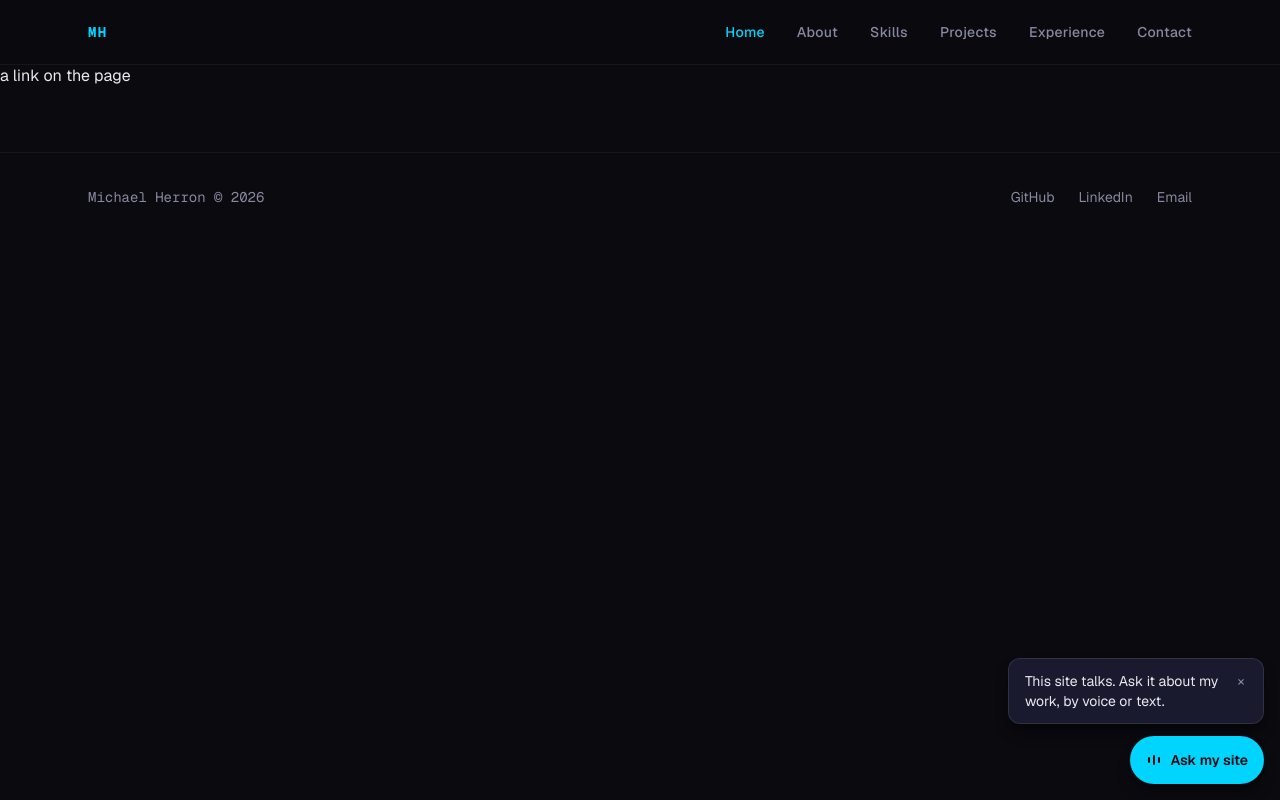
ConciergePanel › offline: shows the status line and the deep-dive link
Step 1. Click the button "Ask my site" → (1197, 760), box left=1130, top=736, right=1264, bottom=784
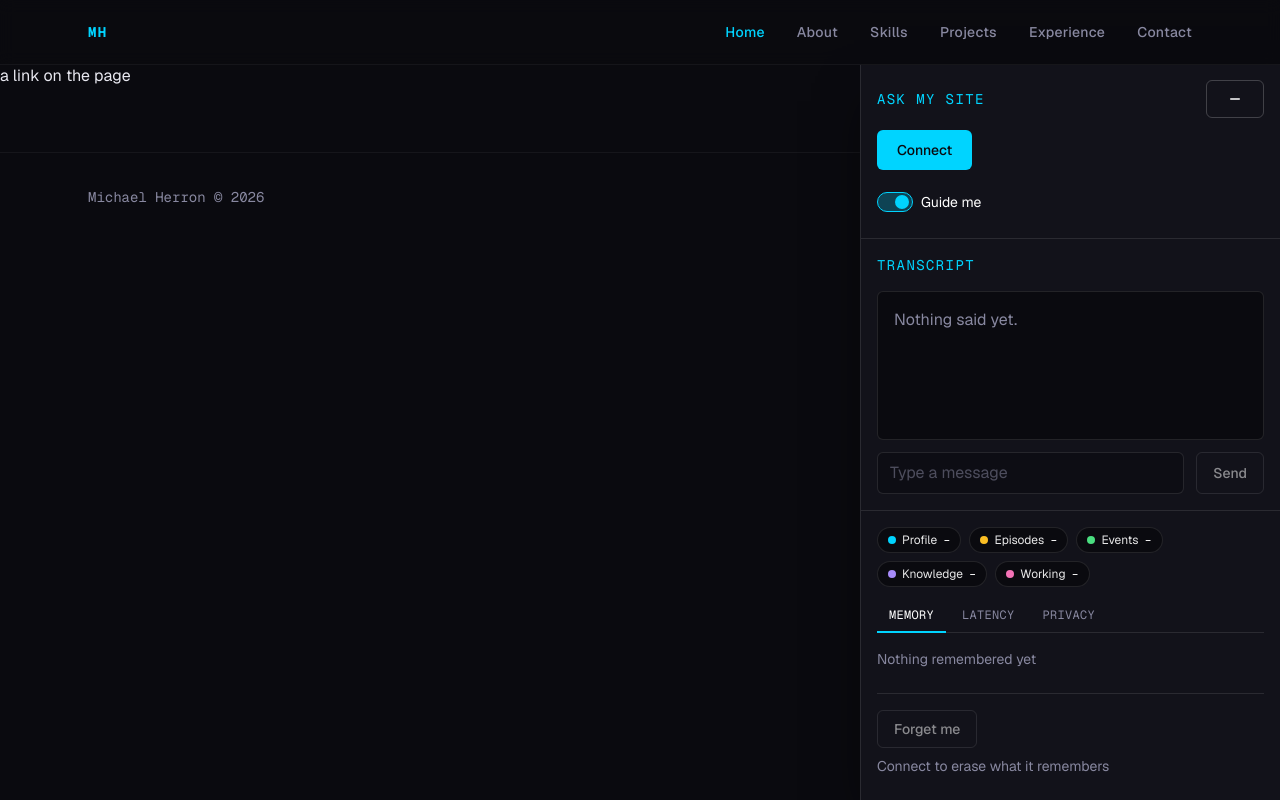
Step 2. Click the button "Connect" → (925, 150), box left=877, top=130, right=972, bottom=170
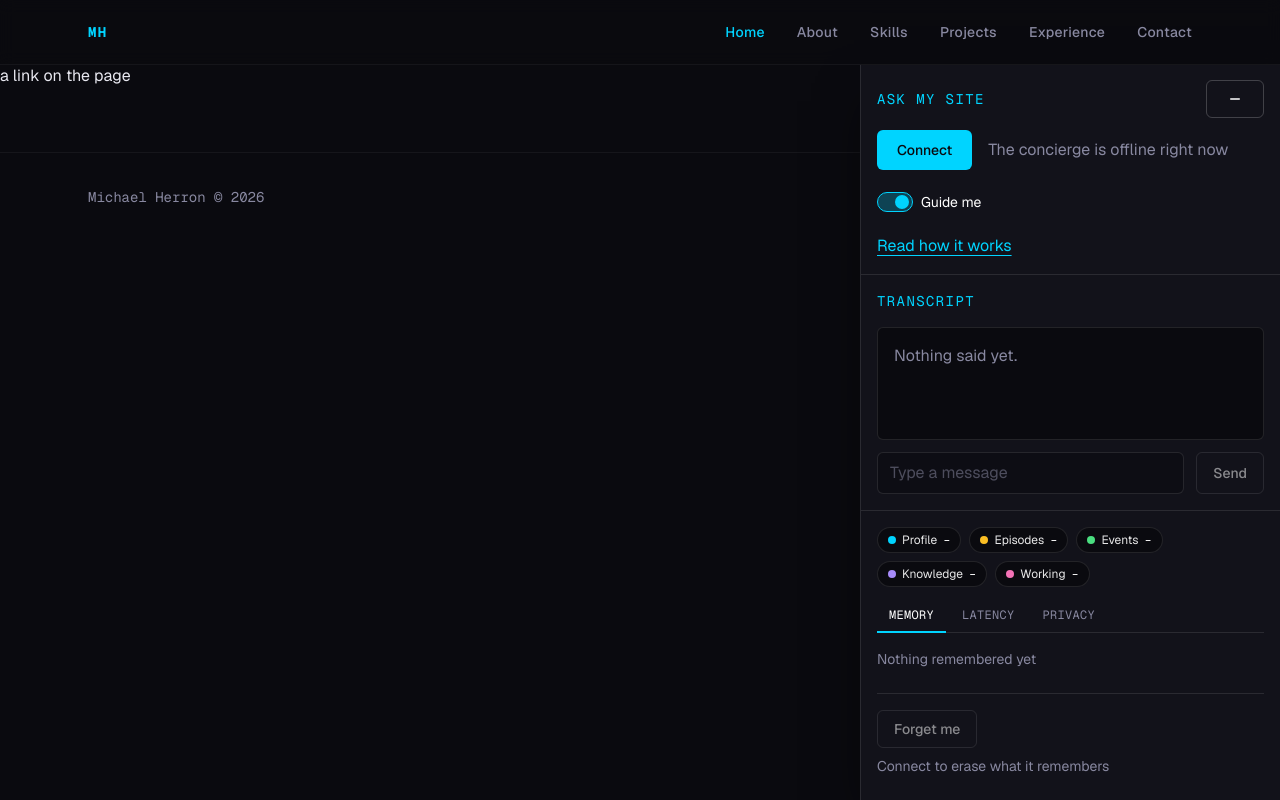
Expected: the message reads "The concierge is offline right now", left=988, top=139, right=1228, bottom=160
